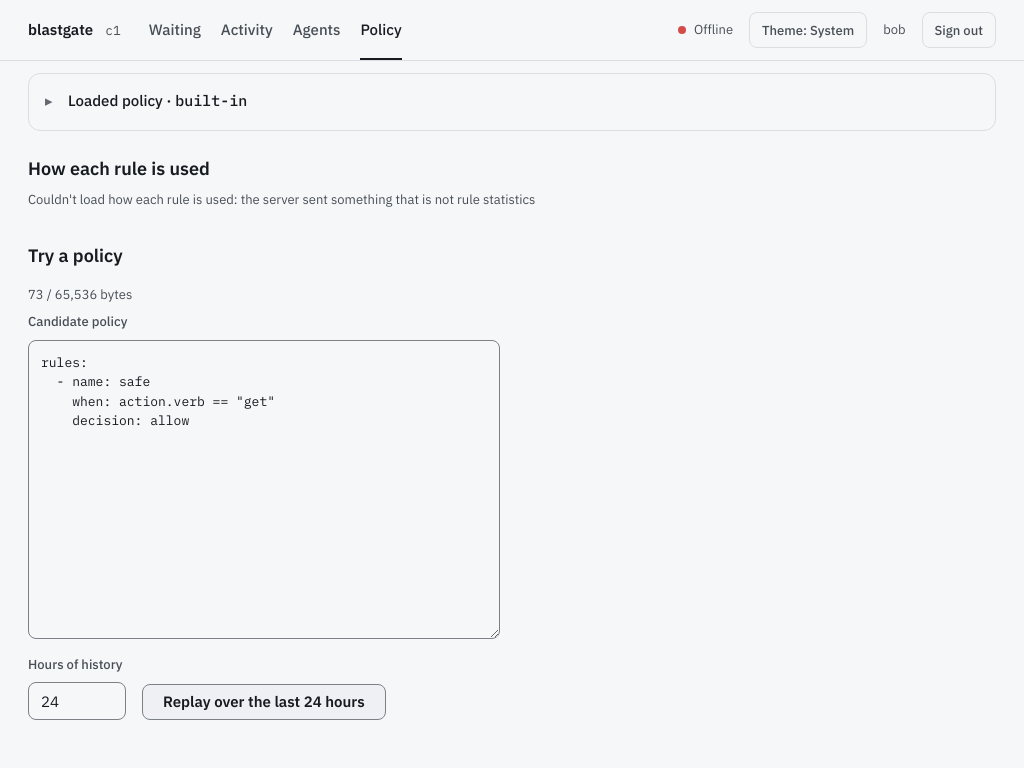
Policy rule stats and announcements › replay result is announced
(page scrolled)
Click the button "Replay over the last 24 hours" at (264, 702), box [142,684,386,720]
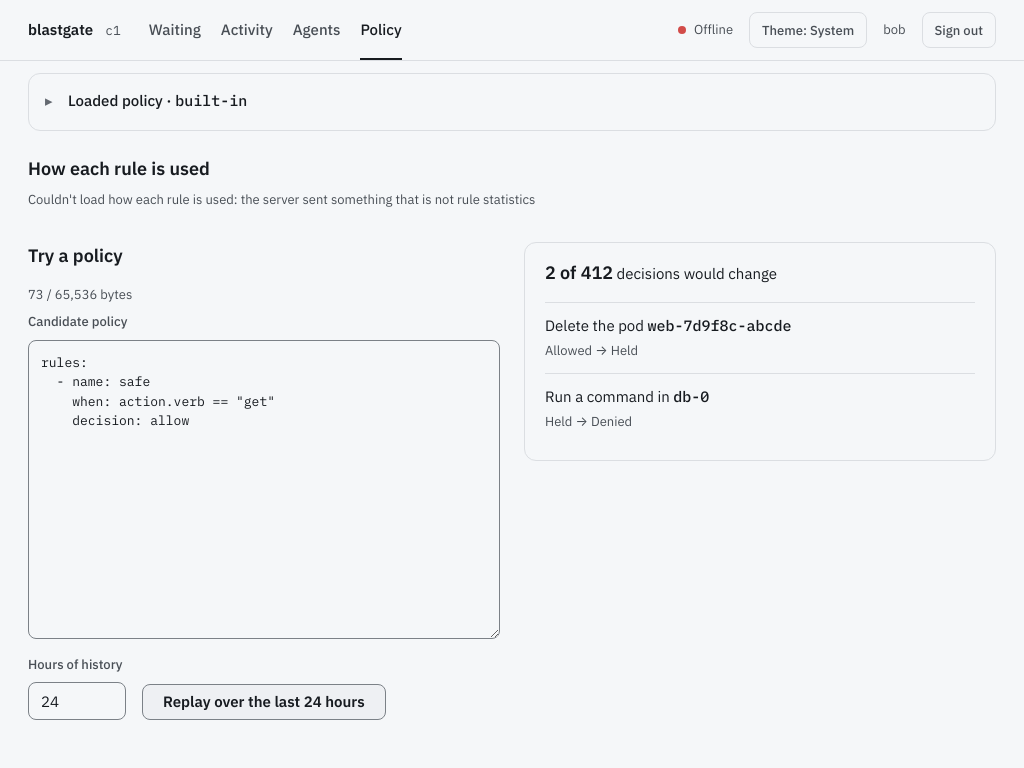
Check: the element named "Replay result" is shown, box [524,242,996,460]
